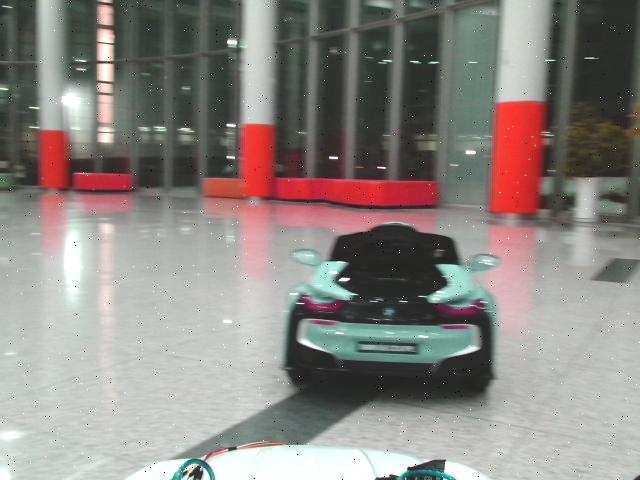car: (283, 223, 501, 397)
